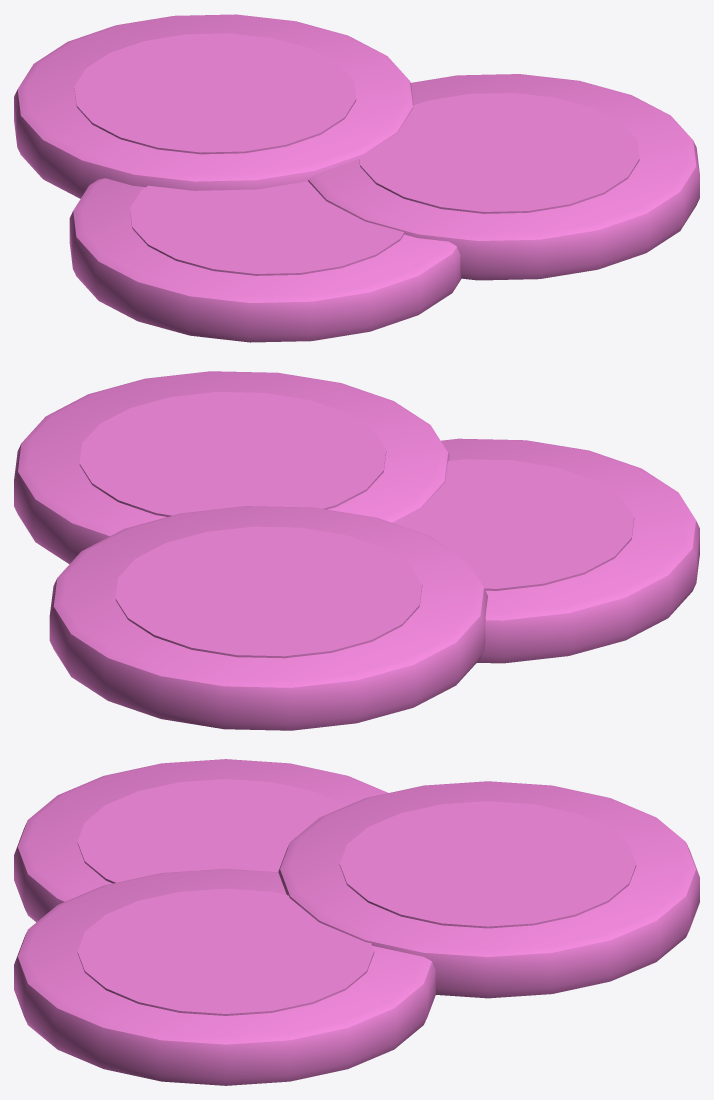
File: Item_CoinsSmall.fbx
3 renders of one model, top to bottom at view 1: azimuth 30°, elevation 25°; view 2: azimuth 150°, elevation 25°; view 3: azimuth 270°, elevation 25°, orthographic. The views are drawn at different scales.
Visible parts, largest first — view 1: Coins; view 2: Coins; view 3: Coins.
Part boxes in pixels (bbox=[...]): Coins: bbox=[14, 14, 699, 342]; Coins: bbox=[14, 371, 699, 730]; Coins: bbox=[14, 759, 699, 1085].
Bounding box in the file's own units: 3.3 × 0.34 × 3.24.
1 material, 1 textured.
